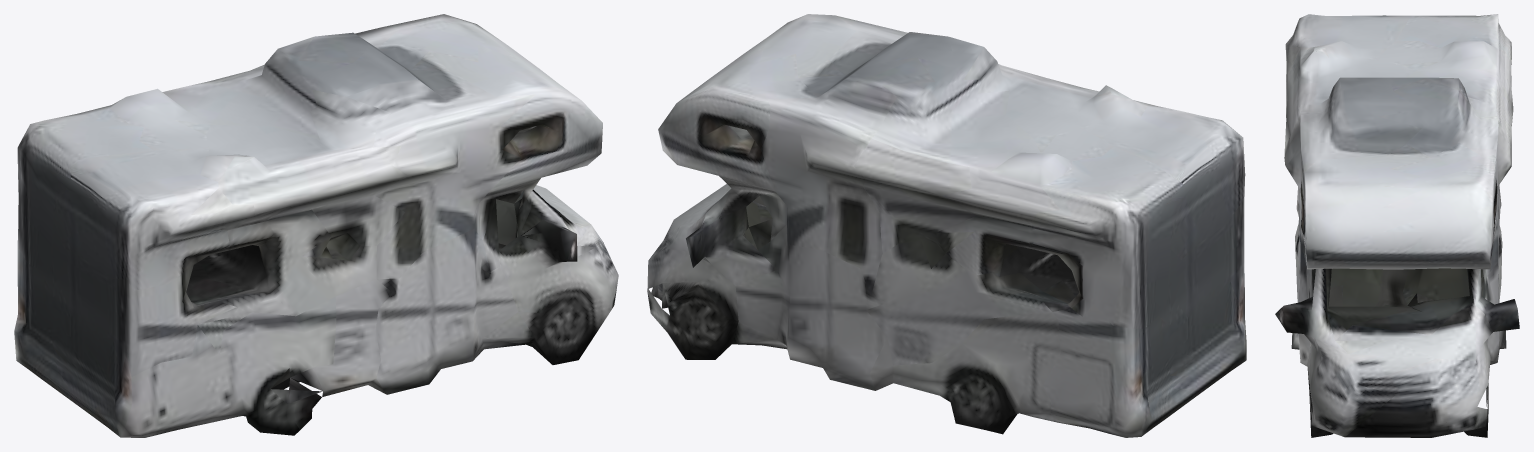
Rendered from zs_wohnmobil.glb.
The picture shows the model from 3 angles, left to right: view 1: azimuth 30°, elevation 25°; view 2: azimuth 150°, elevation 25°; view 3: azimuth 270°, elevation 25°; orthographic projection. The views are drawn at different scales.
Parts seen in each view (by area): view 1: tripo_node_a9a72c86-ed0c-40cf-b1d4-c887c8bdbb6c; view 2: tripo_node_a9a72c86-ed0c-40cf-b1d4-c887c8bdbb6c; view 3: tripo_node_a9a72c86-ed0c-40cf-b1d4-c887c8bdbb6c.
Part boxes in pixels (x1,y1,x2,y2): tripo_node_a9a72c86-ed0c-40cf-b1d4-c887c8bdbb6c: (14, 14, 618, 437); tripo_node_a9a72c86-ed0c-40cf-b1d4-c887c8bdbb6c: (647, 14, 1246, 437); tripo_node_a9a72c86-ed0c-40cf-b1d4-c887c8bdbb6c: (1275, 14, 1519, 437).
Size of the model in its own units: 1 by 0.5674 by 0.462.
1 material, 1 textured.
